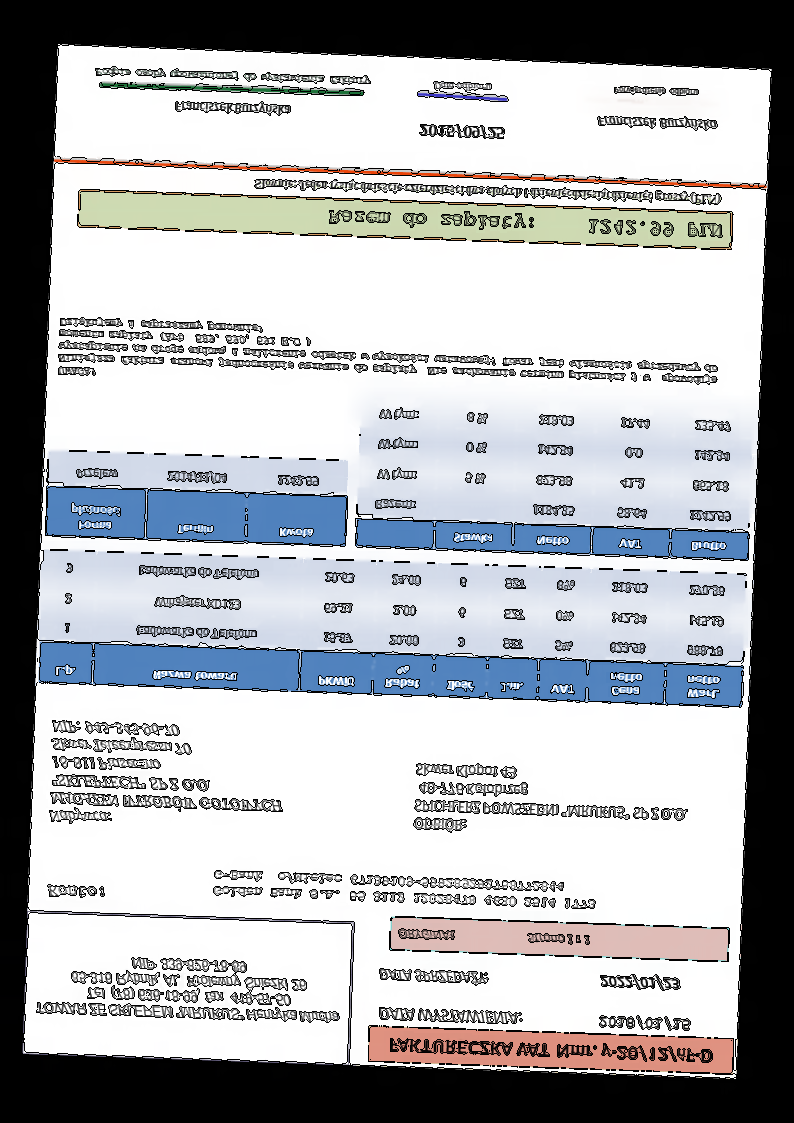Table: (37, 548, 747, 708), (354, 395, 755, 562), (44, 448, 348, 548)
TextBox: (55, 315, 721, 400), (47, 718, 287, 832), (33, 951, 343, 1028), (412, 761, 690, 843), (212, 866, 598, 912), (253, 176, 721, 208), (326, 205, 723, 242), (385, 1034, 713, 1067), (93, 64, 372, 88), (395, 925, 592, 949), (376, 1005, 525, 1028), (376, 966, 491, 988), (595, 112, 718, 132), (172, 98, 291, 118), (597, 1012, 691, 1032), (417, 122, 506, 142), (597, 973, 683, 992), (611, 84, 700, 99), (45, 882, 106, 902), (431, 79, 493, 94)
